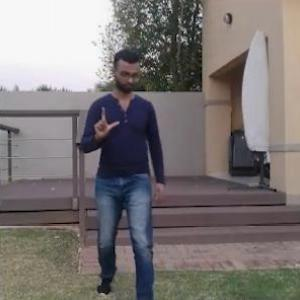land_hand: (91, 99, 128, 143)
